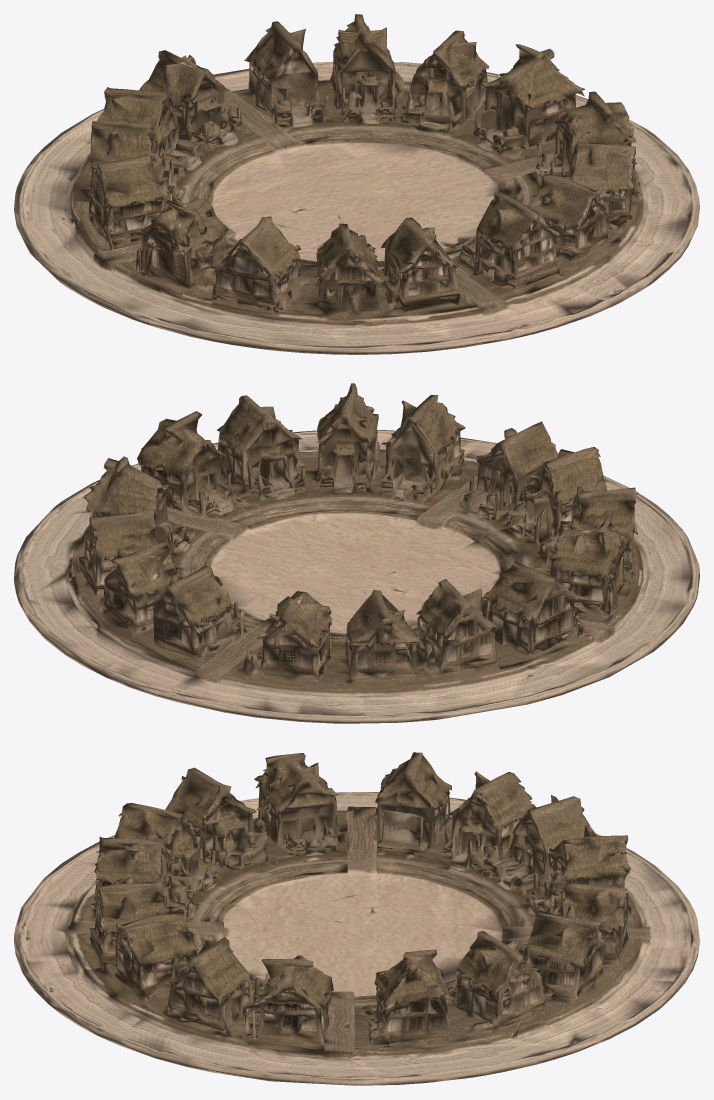
Rendered from village_small.glb.
3 views of the same model, one above another, from view 1: azimuth 30°, elevation 25°; view 2: azimuth 150°, elevation 25°; view 3: azimuth 270°, elevation 25° (orthographic).
Bounding box in the file's own units: 1.9 × 0.2738 × 1.9.
Materials: 1 (1 with a texture image).
